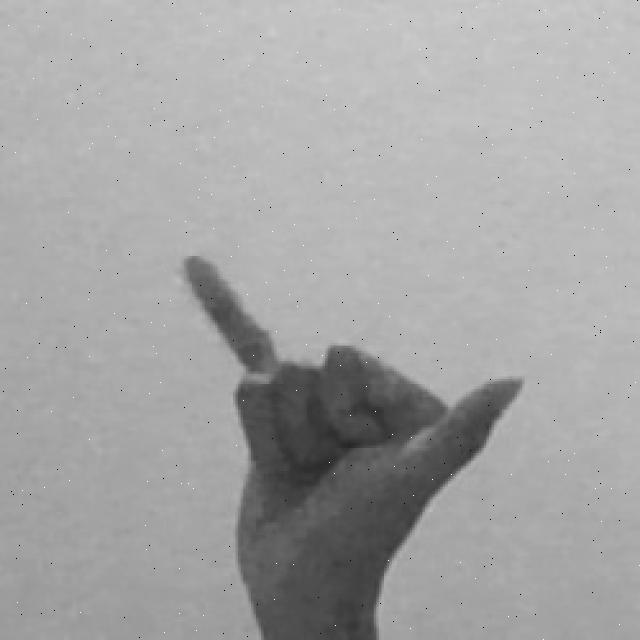Y: (177, 248, 528, 640)
